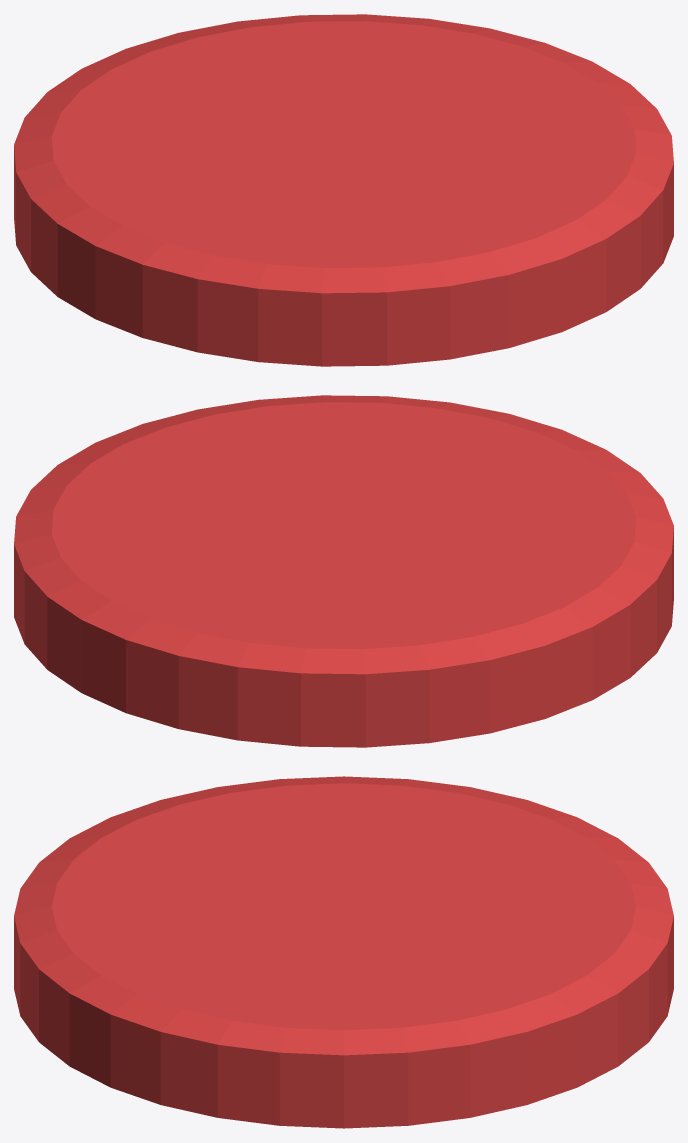
The model's file is burger.dae.
3 views of the same model, one above another, from view 1: azimuth 30°, elevation 25°; view 2: azimuth 150°, elevation 25°; view 3: azimuth 270°, elevation 25° (orthographic).
Parts seen in each view (by area): view 1: Cylinder; view 2: Cylinder; view 3: Cylinder.
Part boxes in pixels (x1,y1,x2,y2): Cylinder: [14, 14, 673, 366]; Cylinder: [14, 395, 673, 747]; Cylinder: [14, 776, 673, 1128].
Size of the model in its own units: 1.96 by 1.96 by 0.3.
